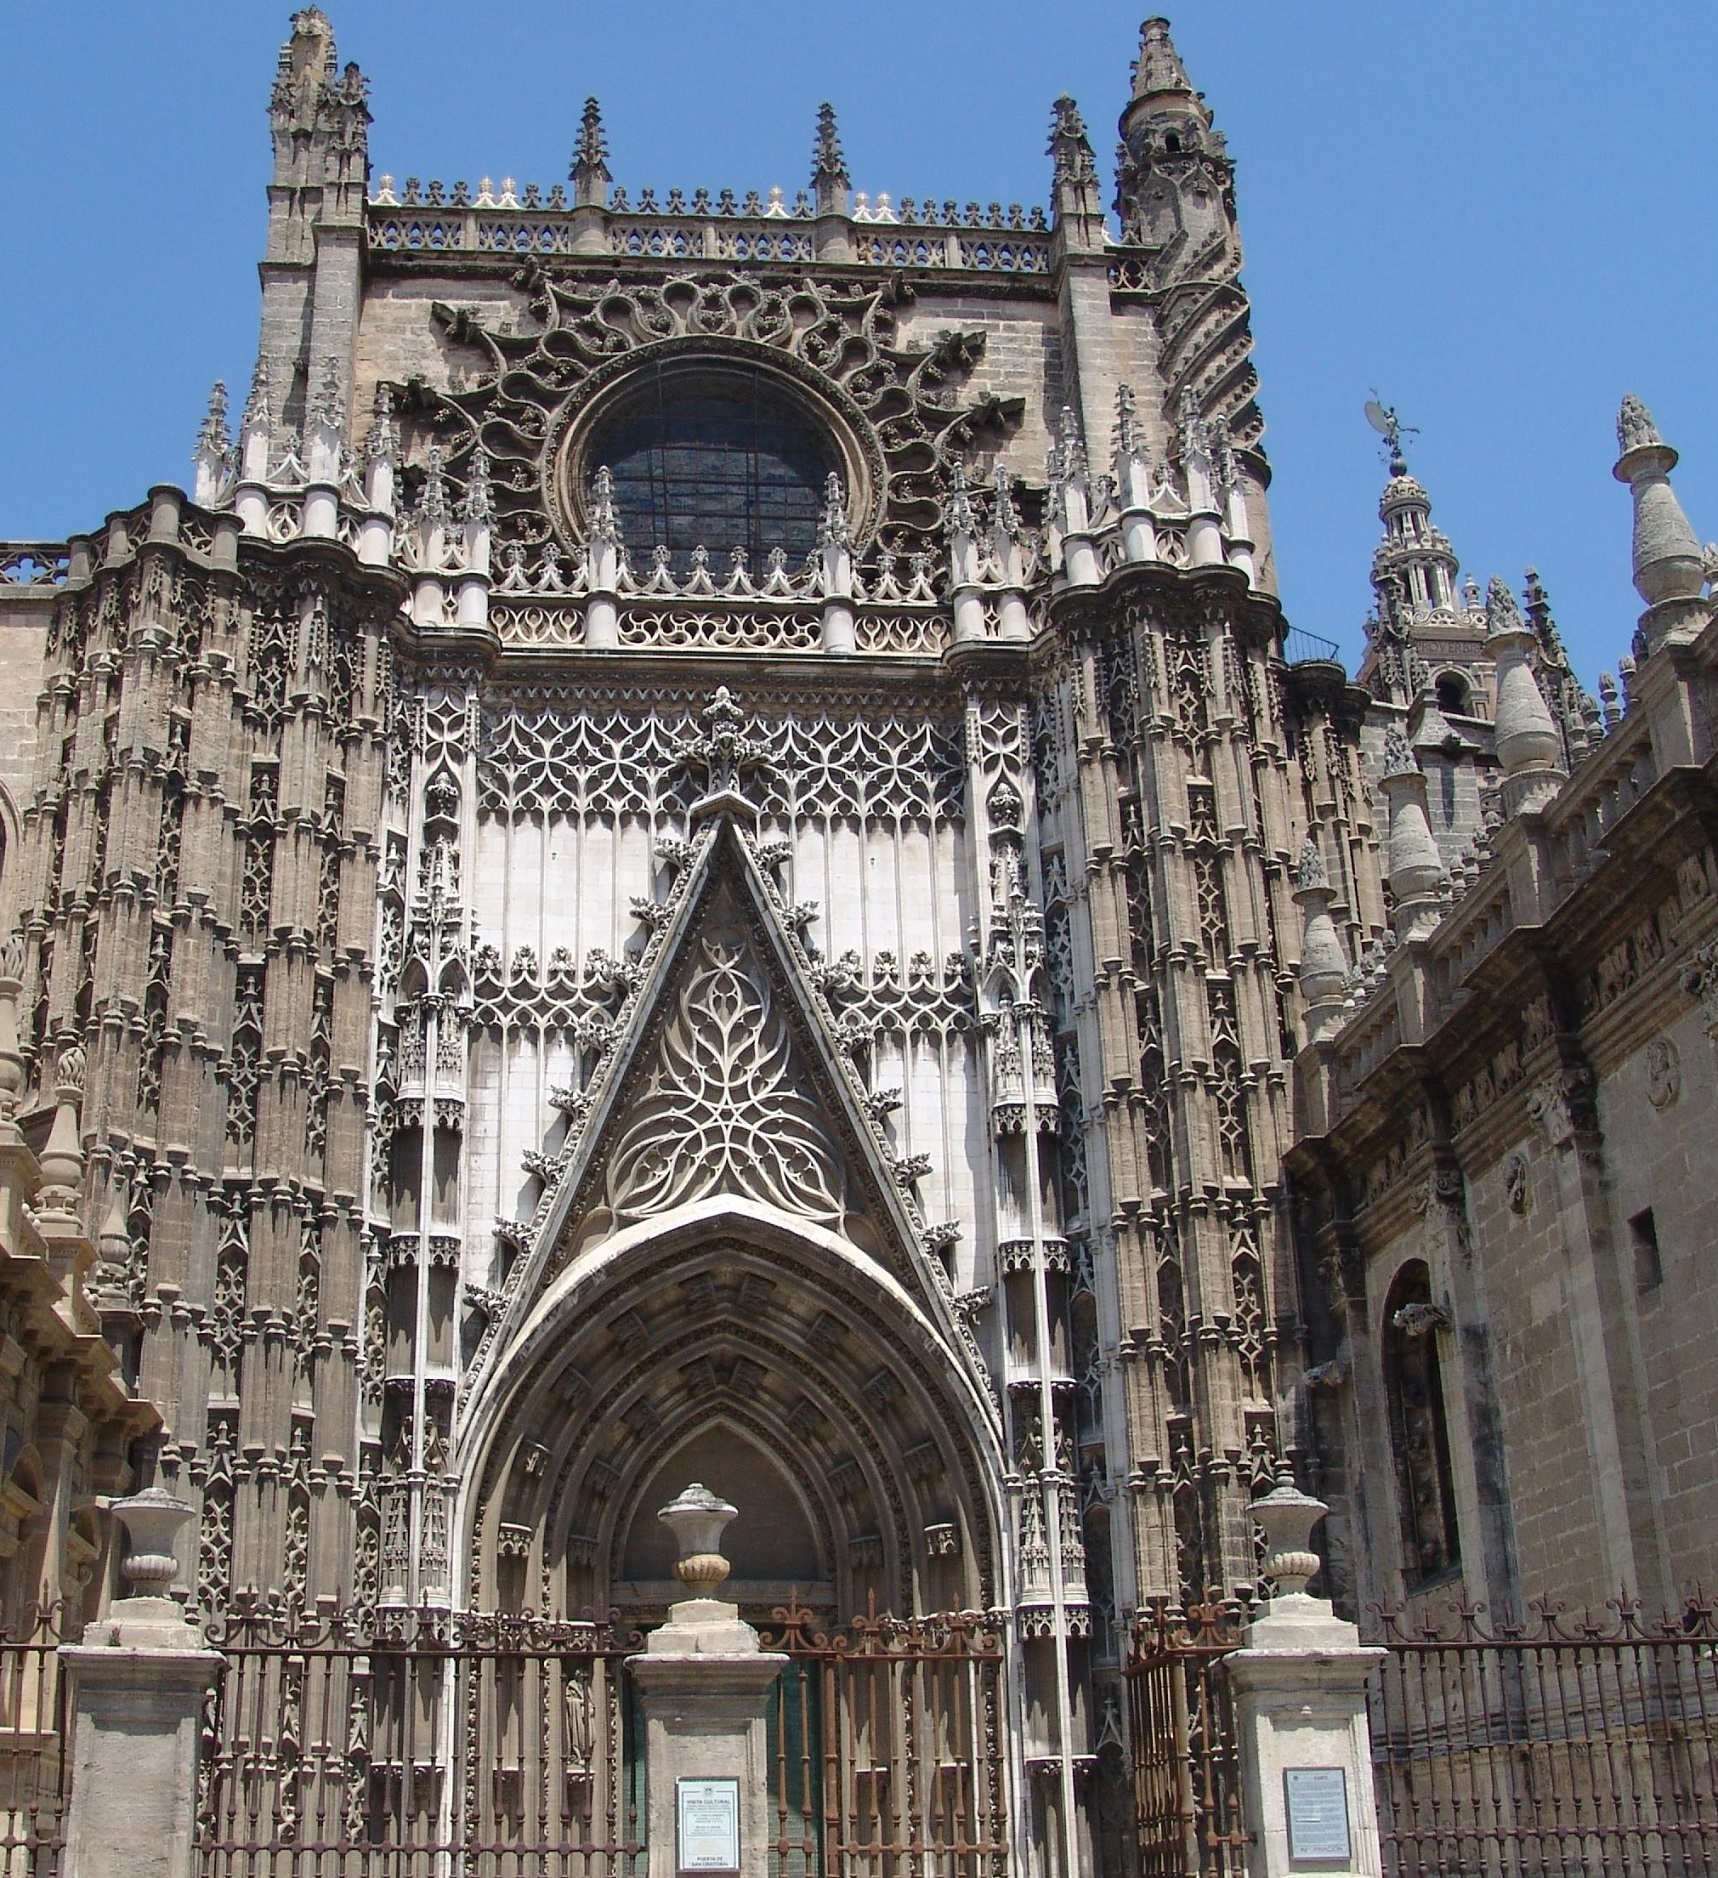arco-apuntado: (460, 1204, 1003, 1605)
pinaculo-gotico: (1041, 80, 1106, 198), (807, 92, 856, 196), (812, 465, 861, 563), (579, 456, 623, 555), (308, 348, 350, 448), (569, 88, 614, 183), (191, 376, 232, 473), (458, 445, 501, 535), (1109, 378, 1152, 466), (1172, 380, 1212, 469), (363, 378, 403, 469), (242, 345, 277, 443), (942, 455, 978, 545), (1050, 401, 1090, 483), (1212, 407, 1247, 497), (988, 460, 1024, 541), (416, 440, 450, 519)
